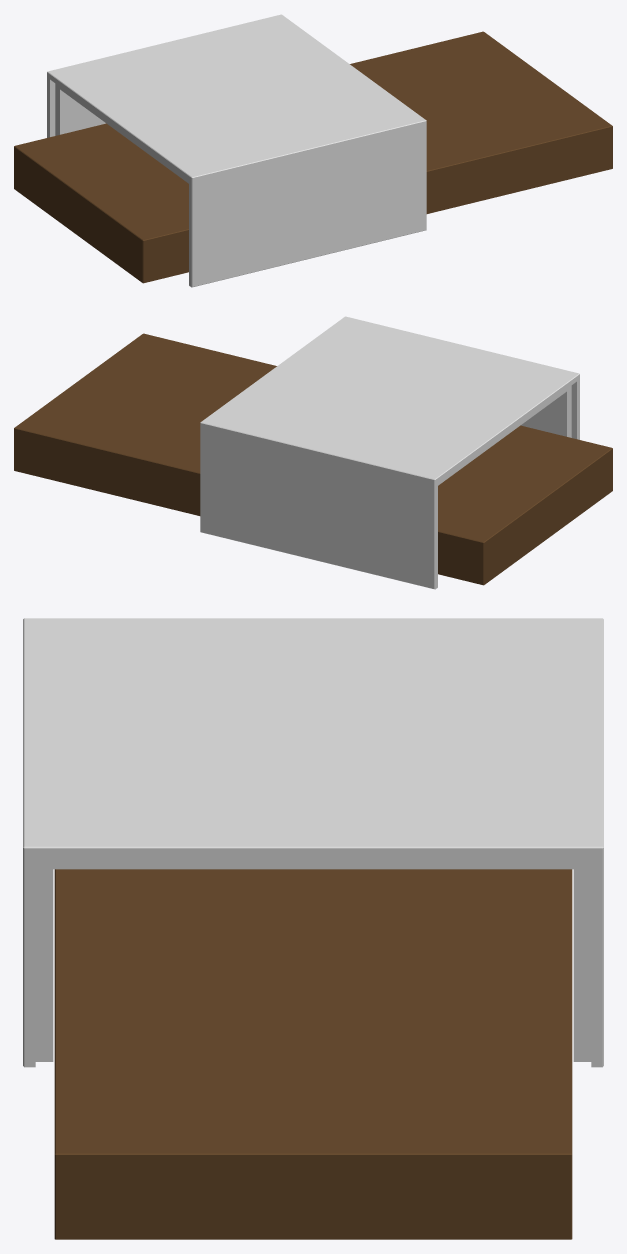
Rendered from MesaCentro1.fbx.
The picture shows the model from 3 angles, top to bottom: view 1: azimuth 30°, elevation 25°; view 2: azimuth 150°, elevation 25°; view 3: azimuth 270°, elevation 25°; orthographic projection. The views are drawn at different scales.
Parts seen in each view (by area): view 1: Component_3_1, Component_2_1, Component_4_1; view 2: Component_3_1, Component_2_1, Component_4_1; view 3: Component_2_1, Component_3_1, Component_4_2.
Boxes of the visible parts, bbox=[...] form: Component_3_1: bbox=[47, 14, 426, 287]; Component_2_1: bbox=[14, 31, 612, 283]; Component_4_1: bbox=[55, 83, 188, 183]; Component_3_1: bbox=[200, 316, 579, 589]; Component_2_1: bbox=[14, 333, 612, 585]; Component_4_1: bbox=[438, 385, 571, 485]; Component_2_1: bbox=[54, 869, 572, 1239]; Component_3_1: bbox=[23, 618, 603, 1067]; Component_4_2: bbox=[35, 858, 591, 1061].
Bounding box in the file's own units: 67.72 × 15.16 × 36.22.
